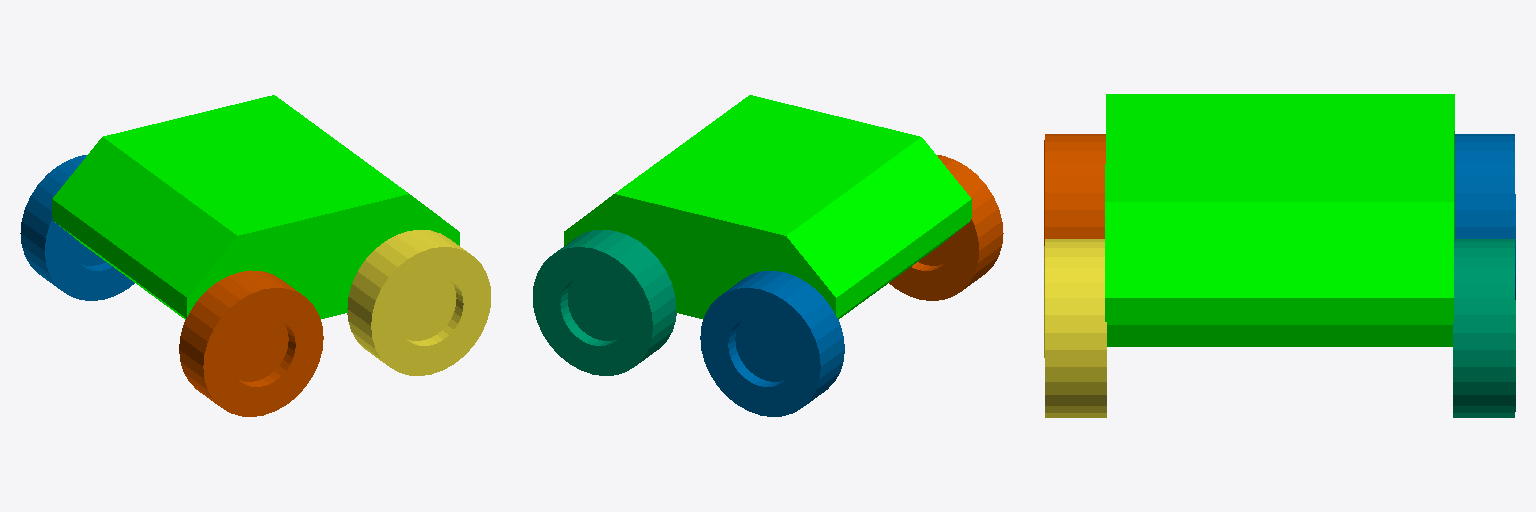
URDF robot description (manipulator_complete):
<?xml version="1.0" encoding="utf-8"?>
<!-- =================================================================================== -->
<!-- |    This document was autogenerated by xacro from manipulator.urdf.xacro         | -->
<!-- |    EDITING THIS FILE BY HAND IS NOT RECOMMENDED                                 | -->
<!-- =================================================================================== -->
<robot name="manipulator_complete">
  <material name="green">
    <color rgba="0 1 0 1"/>
  </material>
  <material name="black">
    <color rgba="0.4 0.4 0.4 1"/>
  </material>
  <material name="yellow">
    <color rgba="247 202 24 1"/>
  </material>
  <gazebo reference="base_link">
    <material>Gazebo/Yellow</material>
  </gazebo>
  <gazebo reference="top_base">
    <material>Gazebo/Black</material>
  </gazebo>
  <gazebo reference="front_left_wheel">
    <material>Gazebo/Black</material>
  </gazebo>
  <gazebo reference="front_right_wheel">
    <material>Gazebo/Black</material>
  </gazebo>
  <gazebo reference="rear_left_wheel">
    <material>Gazebo/Black</material>
  </gazebo>
  <gazebo reference="rear_right_wheel">
    <material>Gazebo/Black</material>
  </gazebo>
  <gazebo reference="arm_base">
    <material>Gazebo/Black</material>
  </gazebo>
  <gazebo reference="bicep">
    <material>Gazebo/Blue</material>
  </gazebo>
  <gazebo reference="bottom_wrist">
    <material>Gazebo/Black</material>
  </gazebo>
  <gazebo reference="elbow">
    <material>Gazebo/Blue</material>
  </gazebo>
  <gazebo reference="top_wrist">
    <material>Gazebo/Black</material>
  </gazebo>

  <!--ROS CONTROL-->
  <gazebo>
    <plugin filename="libgazebo_ros_control.so" name="gazebo_ros_control">
      <robotNamespace>/</robotNamespace>
      <controlPeriod>0.001</controlPeriod>
      <legacyModeNS>false</legacyModeNS>
    </plugin>
  </gazebo>
  <!--DIFF DRIVE -->
  <gazebo>
    <plugin filename="libgazebo_ros_diff_drive.so" name="diff_drive_controller">
      <legacyMode>false</legacyMode>
      <alwaysOn>true</alwaysOn>
      <updateRate>1000.0</updateRate>
      <leftJoint>front_left_wheel_joint, rear_left_wheel_joint</leftJoint>
      <rightJoint>front_right_wheel_joint, rear_right_wheel_joint</rightJoint>
      <wheelSeparation>0.72</wheelSeparation>
      <wheelDiameter>0.4</wheelDiameter>
      <wheelTorque>10</wheelTorque>
      <publishTf>1</publishTf>
      <odometryFrame>map</odometryFrame>
      <commandTopic>cmd_vel</commandTopic>
      <odometryTopic>odom</odometryTopic>
      <robotBaseFrame>base_link</robotBaseFrame>
      <wheelAcceleration>2.8</wheelAcceleration>
      <publishWheelJointState>true</publishWheelJointState>
      <publishWheelTF>false</publishWheelTF>
      <odometrySource>world</odometrySource>
      <rosDebugLevel>Debug</rosDebugLevel>
    </plugin>
  </gazebo>
  <!-- BASE LINK -->
  <link name="base_link">
    <visual>
      <geometry>
        <mesh filename="package://mobile_manipulator/meshes/base.stl" scale="0.15 0.1 0.1"/>
      </geometry>
      <origin rpy="0 0 1.57" xyz="0 0 0.12"/>
      <material name="green"/>
    </visual>
    <collision>
      <origin rpy="0 0 1.57" xyz="0 0 0.12"/>
      <geometry>
        <mesh filename="package://mobile_manipulator/meshes/base.stl" scale="0.15 0.1 0.1"/>
      </geometry>
    </collision>
    <inertial>
      <origin rpy="0 0 0" xyz="0 0 0.12"/>
      <mass value="50"/>
      <inertia ixx="1.2" ixy="-1.03781944357671E-10" ixz="0.00763014265820928" iyy="1.9" iyz="1.09578155845563E-12" izz="2.5"/>
    </inertial>
  </link>
  <!-- TOP PLATE -->
  <link name="top_base">
    <visual>
      <geometry>
        <mesh filename="package://mobile_manipulator/meshes/top_base.stl" scale="0.15 0.1 0.1"/>
      </geometry>
      <origin xyz="0 0 0"/>
      <material name="black"/>
    </visual>
    <collision>
      <geometry>
        <mesh filename="package://mobile_manipulator/meshes/top_base.stl" scale="0.15 0.1 0.1"/>
      </geometry>
    </collision>
    <inertial>
      <mass value="1"/>
      <inertia ixx="0.00856502765719703" ixy="1.5074118157338E-19" ixz="-4.78150098725052E-19" iyy="0.013670640432096" iyz="-2.68136447099727E-19" izz="0.00856502765719703"/>
    </inertial>
  </link>
  <joint name="base_link_to_top_base_link" type="fixed">
    <parent link="base_link"/>
    <child link="top_base"/>
    <origin rpy="0 0 0" xyz="0 0 0.26"/>
  </joint>
  <!--WHEEL LINK-->
  <link name="front_left_wheel">
    <visual>
      <geometry>
        <mesh filename="package://mobile_manipulator/meshes/left_wheel.stl" scale="0.15 0.15 0.15"/>
      </geometry>
      <origin rpy="1.57 0 -1.57" xyz="0 0 0"/>
    </visual>
    <collision>
      <origin rpy="1.57 0 -1.57" xyz="0 0 0"/>
      <geometry>
        <mesh filename="package://mobile_manipulator/meshes/left_wheel.stl" scale="0.15 0.15 0.15"/>
      </geometry>
    </collision>
    <inertial>
      <origin rpy="0 0 0" xyz="0 0 0"/>
      <mass value="2.5"/>
      <inertia ixx="0.00856502765719703" ixy="1.5074118157338E-19" ixz="-4.78150098725052E-19" iyy="0.013670640432096" iyz="-2.68136447099727E-19" izz="0.00856502765719703"/>
    </inertial>
  </link>
  <link name="front_right_wheel">
    <visual>
      <geometry>
        <mesh filename="package://mobile_manipulator/meshes/left_wheel.stl" scale="0.15 0.15 0.15"/>
      </geometry>
      <origin rpy="1.57 0 -1.57" xyz="0 0 0"/>
    </visual>
    <collision>
      <origin rpy="1.57 0 -1.57" xyz="0 0 0"/>
      <geometry>
        <mesh filename="package://mobile_manipulator/meshes/left_wheel.stl" scale="0.15 0.15 0.15"/>
      </geometry>
    </collision>
    <inertial>
      <origin rpy="0 0 0" xyz="0 0 0"/>
      <mass value="2.5"/>
      <inertia ixx="0.00856502765719703" ixy="1.5074118157338E-19" ixz="-4.78150098725052E-19" iyy="0.013670640432096" iyz="-2.68136447099727E-19" izz="0.00856502765719703"/>
    </inertial>
  </link>
  <link name="rear_left_wheel">
    <visual>
      <geometry>
        <mesh filename="package://mobile_manipulator/meshes/left_wheel.stl" scale="0.15 0.15 0.15"/>
      </geometry>
      <origin rpy="1.57 0 -1.57" xyz="0 0 0"/>
    </visual>
    <collision>
      <origin rpy="1.57 0 -1.57" xyz="0 0 0"/>
      <geometry>
        <mesh filename="package://mobile_manipulator/meshes/left_wheel.stl" scale="0.15 0.15 0.15"/>
      </geometry>
    </collision>
    <inertial>
      <origin rpy="0 0 0" xyz="0 0 0"/>
      <mass value="2.5"/>
      <inertia ixx="0.00856502765719703" ixy="1.5074118157338E-19" ixz="-4.78150098725052E-19" iyy="0.013670640432096" iyz="-2.68136447099727E-19" izz="0.00856502765719703"/>
    </inertial>
  </link>
  <link name="rear_right_wheel">
    <visual>
      <geometry>
        <mesh filename="package://mobile_manipulator/meshes/left_wheel.stl" scale="0.15 0.15 0.15"/>
      </geometry>
      <origin rpy="1.57 0 -1.57" xyz="0 0 0"/>
    </visual>
    <collision>
      <origin rpy="1.57 0 -1.57" xyz="0 0 0"/>
      <geometry>
        <mesh filename="package://mobile_manipulator/meshes/left_wheel.stl" scale="0.15 0.15 0.15"/>
      </geometry>
    </collision>
    <inertial>
      <origin rpy="0 0 0" xyz="0 0 0"/>
      <mass value="2.5"/>
      <inertia ixx="0.00856502765719703" ixy="1.5074118157338E-19" ixz="-4.78150098725052E-19" iyy="0.013670640432096" iyz="-2.68136447099727E-19" izz="0.00856502765719703"/>
    </inertial>
  </link>
  <!--WHEEL JOINT-->
  <joint name="front_left_wheel_joint" type="continuous">
    <axis xyz="0 1 0"/>
    <parent link="base_link"/>
    <child link="front_left_wheel"/>
    <origin rpy="0 0 0" xyz="0.220 0.36 0"/>
  </joint>
  <joint name="front_right_wheel_joint" type="continuous">
    <axis xyz="0 1 0"/>
    <parent link="base_link"/>
    <child link="front_right_wheel"/>
    <origin rpy="0 0 0" xyz="0.220 -0.36 0"/>
  </joint>
  <joint name="rear_left_wheel_joint" type="continuous">
    <axis xyz="0 1 0"/>
    <parent link="base_link"/>
    <child link="rear_left_wheel"/>
    <origin rpy="0 0 0" xyz="-0.220 0.36 0"/>
  </joint>
  <joint name="rear_right_wheel_joint" type="continuous">
    <axis xyz="0 1 0"/>
    <parent link="base_link"/>
    <child link="rear_right_wheel"/>
    <origin rpy="0 0 0" xyz="-0.220 -0.36 0"/>
  </joint>
  <!--WHEEL TRANSMISSION-->
  <transmission name="front_left_wheel_trans" type="SimpleTransmission">
    <type>transmission_interface/SimpleTransmission</type>
    <actuator name="front_left_wheel_motor">
      <hardwareInterface>hardware_interface/VelocityJointInterface</hardwareInterface>
      <mechanicalReduction>1</mechanicalReduction>
    </actuator>
    <joint name="front_left_wheel_joint">
      <hardwareInterface>hardware_interface/VelocityJointInterface</hardwareInterface>
    </joint>
  </transmission>
  <transmission name="front_right_wheel_trans" type="SimpleTransmission">
    <type>transmission_interface/SimpleTransmission</type>
    <actuator name="front_right_wheel_motor">
      <hardwareInterface>hardware_interface/VelocityJointInterface</hardwareInterface>
      <mechanicalReduction>1</mechanicalReduction>
    </actuator>
    <joint name="front_right_wheel_joint">
      <hardwareInterface>hardware_interface/VelocityJointInterface</hardwareInterface>
    </joint>
  </transmission>
  <transmission name="rear_left_wheel_trans" type="SimpleTransmission">
    <type>transmission_interface/SimpleTransmission</type>
    <actuator name="rear_left_wheel_motor">
      <hardwareInterface>hardware_interface/VelocityJointInterface</hardwareInterface>
      <mechanicalReduction>1</mechanicalReduction>
    </actuator>
    <joint name="rear_left_wheel_joint">
      <hardwareInterface>hardware_interface/VelocityJointInterface</hardwareInterface>
    </joint>
  </transmission>
  <transmission name="rear_right_wheel_trans" type="SimpleTransmission">
    <type>transmission_interface/SimpleTransmission</type>
    <actuator name="rear_right_wheel_motor">
      <hardwareInterface>hardware_interface/VelocityJointInterface</hardwareInterface>
      <mechanicalReduction>1</mechanicalReduction>
    </actuator>
    <joint name="rear_right_wheel_joint">
      <hardwareInterface>hardware_interface/VelocityJointInterface</hardwareInterface>
    </joint>
  </transmission>
  <!-- WHEEL FRICTION -->
  <gazebo reference="front_left_wheel">
    <mu1 value="1.0"/>
    <mu2 value="1.0"/>
    <kp value="10000000.0"/>
    <kd value="1.0"/>
    <fdir1 value="1 0 0"/>
  </gazebo>
  <gazebo reference="front_right_wheel">
    <mu1 value="1.0"/>
    <mu2 value="1.0"/>
    <kp value="10000000.0"/>
    <kd value="1.0"/>
    <fdir1 value="1 0 0"/>
  </gazebo>
  <gazebo reference="rear_left_wheel">
    <mu1 value="1.0"/>
    <mu2 value="1.0"/>
    <kp value="10000000.0"/>
    <kd value="1.0"/>
    <fdir1 value="1 0 0"/>
  </gazebo>
  <gazebo reference="rear_right_wheel">
    <mu1 value="1.0"/>
    <mu2 value="1.0"/>
    <kp value="10000000.0"/>
    <kd value="1.0"/>
    <fdir1 value="1 0 0"/>
  </gazebo>
  <!--######################################################################-->
  <!--######################################################################-->
  <!--################################ ROS-Controllers ######################################-->
  <gazebo>
    <plugin filename="libgazebo_ros_joint_state_publisher.so" name="joint_state_publisher">
      <jointName>arm_base_joint, shoulder_joint, bottom_wrist_joint, elbow_joint, bottom_wrist_joint</jointName>
    </plugin>
  </gazebo>
  <!--######################################################################-->
  <link name="arm_base">
    <inertial>
      <origin rpy="0 0 0" xyz="7.7128E-09 -0.063005 -3.01969999961422E-08"/>
      <mass value="1.6004"/>
      <inertia ixx="0.00552196561445819" ixy="7.9550614501301E-10" ixz="-1.34378458924839E-09" iyy="0.00352397447953875" iyz="-1.10071809773382E-08" izz="0.00553739792746489"/>
    </inertial>
    <visual>
      <origin rpy="0 0 0" xyz="0 0 0"/>
      <geometry>
        <mesh filename="package://robot_description/meshes/arm_base.stl"/>
      </geometry>
      <material name="">
        <color rgba="0.79216 0.81961 0.93333 1"/>
      </material>
    </visual>
    <collision>
      <origin rpy="0 0 0" xyz="0 0 0"/>
      <geometry>
        <mesh filename="package://robot_description/meshes/arm_base.stl"/>
      </geometry>
    </collision>
  </link>
  <link name="bicep">
    <inertial>
      <origin rpy="0 0 0" xyz="0.12821 3.5589E-06 0.052492"/>
      <mass value="1.1198"/>
      <inertia ixx="0.0012474" ixy="-5.4004E-07" ixz="-0.0013148" iyy="0.0072923" iyz="-1.8586E-07" izz="0.0068178"/>
    </inertial>
    <visual>
      <origin rpy="0 -1.5708 0" xyz="0 0 0"/>
      <geometry>
        <mesh filename="package://robot_description/meshes/bicep.stl"/>
      </geometry>
      <material name="">
        <color rgba="0.79216 0.81961 0.93333 1"/>
      </material>
    </visual>
    <collision>
      <origin rpy="0 -1.5708 0" xyz="0 0 0"/>
      <geometry>
        <mesh filename="package://robot_description/meshes/bicep.stl"/>
      </geometry>
    </collision>
  </link>
  <link name="bottom_wrist">
    <inertial>
      <origin rpy="0 0 0" xyz="-9.1053E-08 -0.069257 -1.86629999995759E-07"/>
      <mass value="0.27721"/>
      <inertia ixx="0.00104290750143942" ixy="4.37155302268076E-09" ixz="-2.45049603914627E-09" iyy="0.000380518373895034" iyz="-7.56009835172156E-09" izz="0.00106006525067445"/>
    </inertial>
    <visual>
      <origin rpy="3.14 0 1.5708" xyz="0 0 0.13522"/>
      <geometry>
        <mesh filename="package://robot_description/meshes/wrist.stl"/>
      </geometry>
      <material name="">
        <color rgba="0.79216 0.81961 0.93333 1"/>
      </material>
    </visual>
    <collision>
      <origin rpy="3.14 0 1.5708" xyz="0 0 0.13522"/>
      <geometry>
        <mesh filename="package://robot_description/meshes/wrist.stl"/>
      </geometry>
    </collision>
  </link>
  <link name="elbow">
    <inertial>
      <origin rpy="0 0 0" xyz="-0.11109 1.1476E-08 0.046469"/>
      <mass value="0.84845"/>
      <inertia ixx="0.00079656" ixy="-7.8011E-10" ixz="0.00053616" iyy="0.003576" iyz="4.6326E-10" izz="0.0033698"/>
    </inertial>
    <visual>
      <origin rpy="0 -1.5708 0" xyz="0.0 0.05163 0.20994"/>
      <geometry>
        <mesh filename="package://robot_description/meshes/elbow.stl"/>
      </geometry>
      <material name="">
        <color rgba="0.79216 0.81961 0.93333 1"/>
      </material>
    </visual>
    <collision>
      <origin rpy="0 -1.5708 0" xyz="0.0 0.05163 0.20994"/>
      <geometry>
        <mesh filename="package://robot_description/meshes/elbow.stl"/>
      </geometry>
    </collision>
  </link>
  <link name="top_wrist">
    <inertial>
      <origin rpy="0 0 0" xyz="-9.1053E-08 -0.069257 -1.86629999995759E-07"/>
      <mass value="0.27721"/>
      <inertia ixx="0.00104290750143942" ixy="4.37155302268076E-09" ixz="-2.45049603914627E-09" iyy="0.000380518373895034" iyz="-7.56009835172156E-09" izz="0.00106006525067445"/>
    </inertial>
    <visual>
      <origin rpy="3.14 0 1.5708" xyz="0 0 0.13522"/>
      <geometry>
        <mesh filename="package://robot_description/meshes/wrist.stl"/>
      </geometry>
      <material name="">
        <color rgba="0.79216 0.81961 0.93333 1"/>
      </material>
    </visual>
    <collision>
      <origin rpy="3.14 0 1.5708" xyz="0 0 0.13522"/>
      <geometry>
        <mesh filename="package://robot_description/meshes/wrist.stl"/>
      </geometry>
    </collision>
  </link>
  <!--######################################################################-->
  <joint name="arm_base_joint" type="continuous">
    <axis xyz="0 0 1"/>
    <parent link="base_link"/>
    <child link="arm_base"/>
    <origin rpy="0 0 1.5708" xyz="0.2 0 0.265"/>
  </joint>
  <joint name="shoulder_joint" type="continuous">
    <axis xyz="0 1 0"/>
    <parent link="arm_base"/>
    <child link="bicep"/>
    <origin rpy="0 0 1.5708" xyz="-0.05166 0.0 0.20271"/>
  </joint>
  <joint name="bottom_wrist_joint" type="continuous">
    <axis xyz="0 1 0"/>
    <parent link="bicep"/>
    <child link="bottom_wrist"/>
    <origin rpy="0 0 0" xyz="0.0 -0.05194 0.269"/>
  </joint>
  <joint name="elbow_joint" type="continuous">
    <axis xyz="0 0 1"/>
    <parent link="bottom_wrist"/>
    <child link="elbow"/>
    <origin rpy="0 0 0" xyz="0.0 0 0.13522"/>
  </joint>
  <joint name="top_wrist_joint" type="continuous">
    <axis xyz="0 1 0"/>
    <parent link="elbow"/>
    <child link="top_wrist"/>
    <origin rpy="0 0 0" xyz="0.0 0 0.20994"/>
  </joint>
  <!--######################################################################-->
  <transmission name="arm_base_trans" type="SimpleTransmission">
    <type>transmission_interface/SimpleTransmission</type>
    <actuator name="arm_motor">
      <hardwareInterface>hardware_interface/PositionJointInterface</hardwareInterface>
      <mechanicalReduction>1</mechanicalReduction>
    </actuator>
    <joint name="arm_base_joint">
      <hardwareInterface>hardware_interface/PositionJointInterface</hardwareInterface>
    </joint>
  </transmission>
  <transmission name="shoulder_trans" type="SimpleTransmission">
    <type>transmission_interface/SimpleTransmission</type>
    <actuator name="shoulder_motor">
      <hardwareInterface>hardware_interface/PositionJointInterface</hardwareInterface>
      <mechanicalReduction>1</mechanicalReduction>
    </actuator>
    <joint name="shoulder_joint">
      <hardwareInterface>hardware_interface/PositionJointInterface</hardwareInterface>
    </joint>
  </transmission>
  <transmission name="bottom_wrist_trans" type="SimpleTransmission">
    <type>transmission_interface/SimpleTransmission</type>
    <actuator name="bottom_wrist_motor">
      <hardwareInterface>hardware_interface/PositionJointInterface</hardwareInterface>
      <mechanicalReduction>1</mechanicalReduction>
    </actuator>
    <joint name="bottom_wrist_joint">
      <hardwareInterface>hardware_interface/PositionJointInterface</hardwareInterface>
    </joint>
  </transmission>
  <transmission name="elbow_trans" type="SimpleTransmission">
    <type>transmission_interface/SimpleTransmission</type>
    <actuator name="elbow_motor">
      <hardwareInterface>hardware_interface/PositionJointInterface</hardwareInterface>
      <mechanicalReduction>1</mechanicalReduction>
    </actuator>
    <joint name="elbow_joint">
      <hardwareInterface>hardware_interface/PositionJointInterface</hardwareInterface>
    </joint>
  </transmission>
  <transmission name="top_wrist_trans" type="SimpleTransmission">
    <type>transmission_interface/SimpleTransmission</type>
    <actuator name="top_wrist_motor">
      <hardwareInterface>hardware_interface/PositionJointInterface</hardwareInterface>
      <mechanicalReduction>1</mechanicalReduction>
    </actuator>
    <joint name="top_wrist_joint">
      <hardwareInterface>hardware_interface/PositionJointInterface</hardwareInterface>
    </joint>
  </transmission>
  <!--######################################################################-->
</robot>

--- Render facts (derived) ---
3 views of the same robot in one strip: view 1: azimuth 30°, elevation 25°; view 2: azimuth 150°, elevation 25°; view 3: azimuth 270°, elevation 25° (orthographic).
Robot: manipulator_complete — 11 links, 10 joints (9 continuous, 1 fixed); root link base_link; default pose: every joint at zero.
Links seen in each view (by area): view 1: base_link, rear_right_wheel, front_right_wheel, rear_left_wheel; view 2: base_link, rear_left_wheel, front_left_wheel, rear_right_wheel; view 3: base_link, front_left_wheel, front_right_wheel, rear_right_wheel, rear_left_wheel.
Boxes of the visible links, <box> form: base_link: <box>52,95,459,319</box>; rear_right_wheel: <box>179,270,323,416</box>; front_right_wheel: <box>347,230,490,375</box>; rear_left_wheel: <box>20,155,134,300</box>; base_link: <box>564,95,971,319</box>; rear_left_wheel: <box>700,271,844,416</box>; front_left_wheel: <box>533,230,676,375</box>; rear_right_wheel: <box>889,155,1003,300</box>; base_link: <box>1105,94,1454,346</box>; front_left_wheel: <box>1453,239,1515,417</box>; front_right_wheel: <box>1044,239,1106,417</box>; rear_right_wheel: <box>1044,134,1105,245</box>; rear_left_wheel: <box>1455,134,1515,299</box>.
Bounding box of the posed robot: 0.7559 × 0.8302 × 0.4079 m (x, y, z).
5 mesh visuals loaded from 7 distinct referenced files (2 binary STL); not drawn: 6 (reference not matched to a file when rendering).